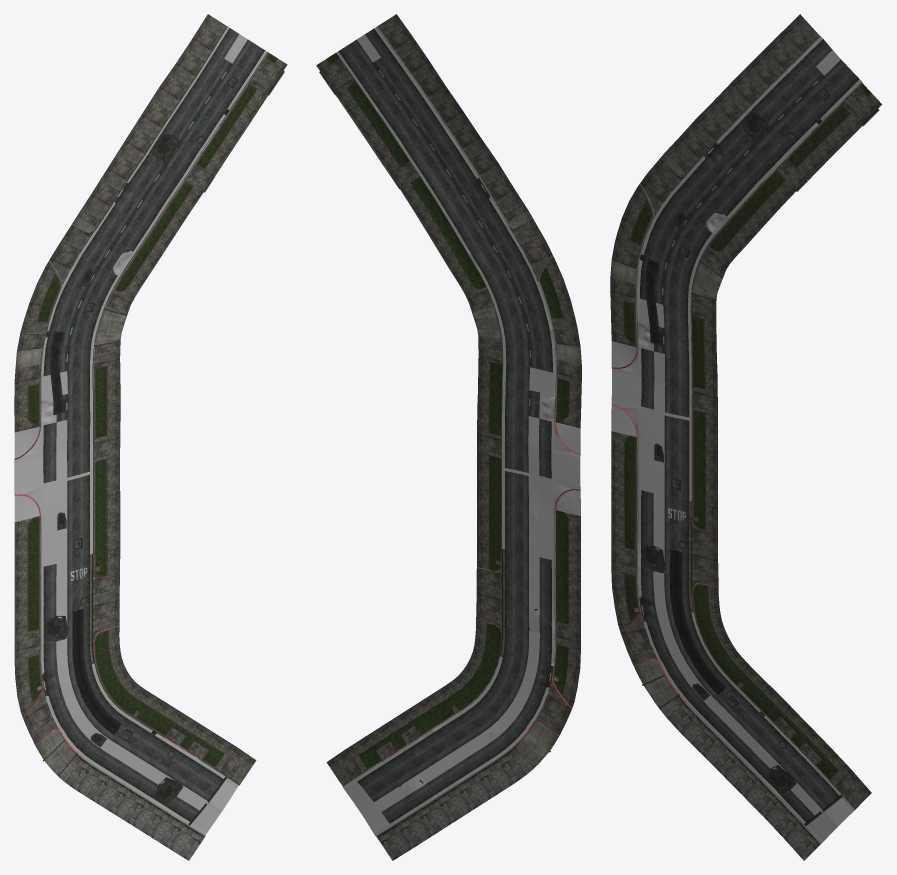
3 views of the same model, side by side, from view 1: azimuth 30°, elevation 25°; view 2: azimuth 150°, elevation 25°; view 3: azimuth 330°, elevation 25° (orthographic). The views are drawn at different scales.
Visible parts, largest first — view 1: sc1_rd_r1_09; view 2: sc1_rd_r1_09; view 3: sc1_rd_r1_09.
Boxes of the visible parts, <box> form: sc1_rd_r1_09: <box>14,14,287,860</box>; sc1_rd_r1_09: <box>316,14,581,860</box>; sc1_rd_r1_09: <box>610,14,881,860</box>.
Bounding box in the file's own units: 6177 × 18528 × 544.
